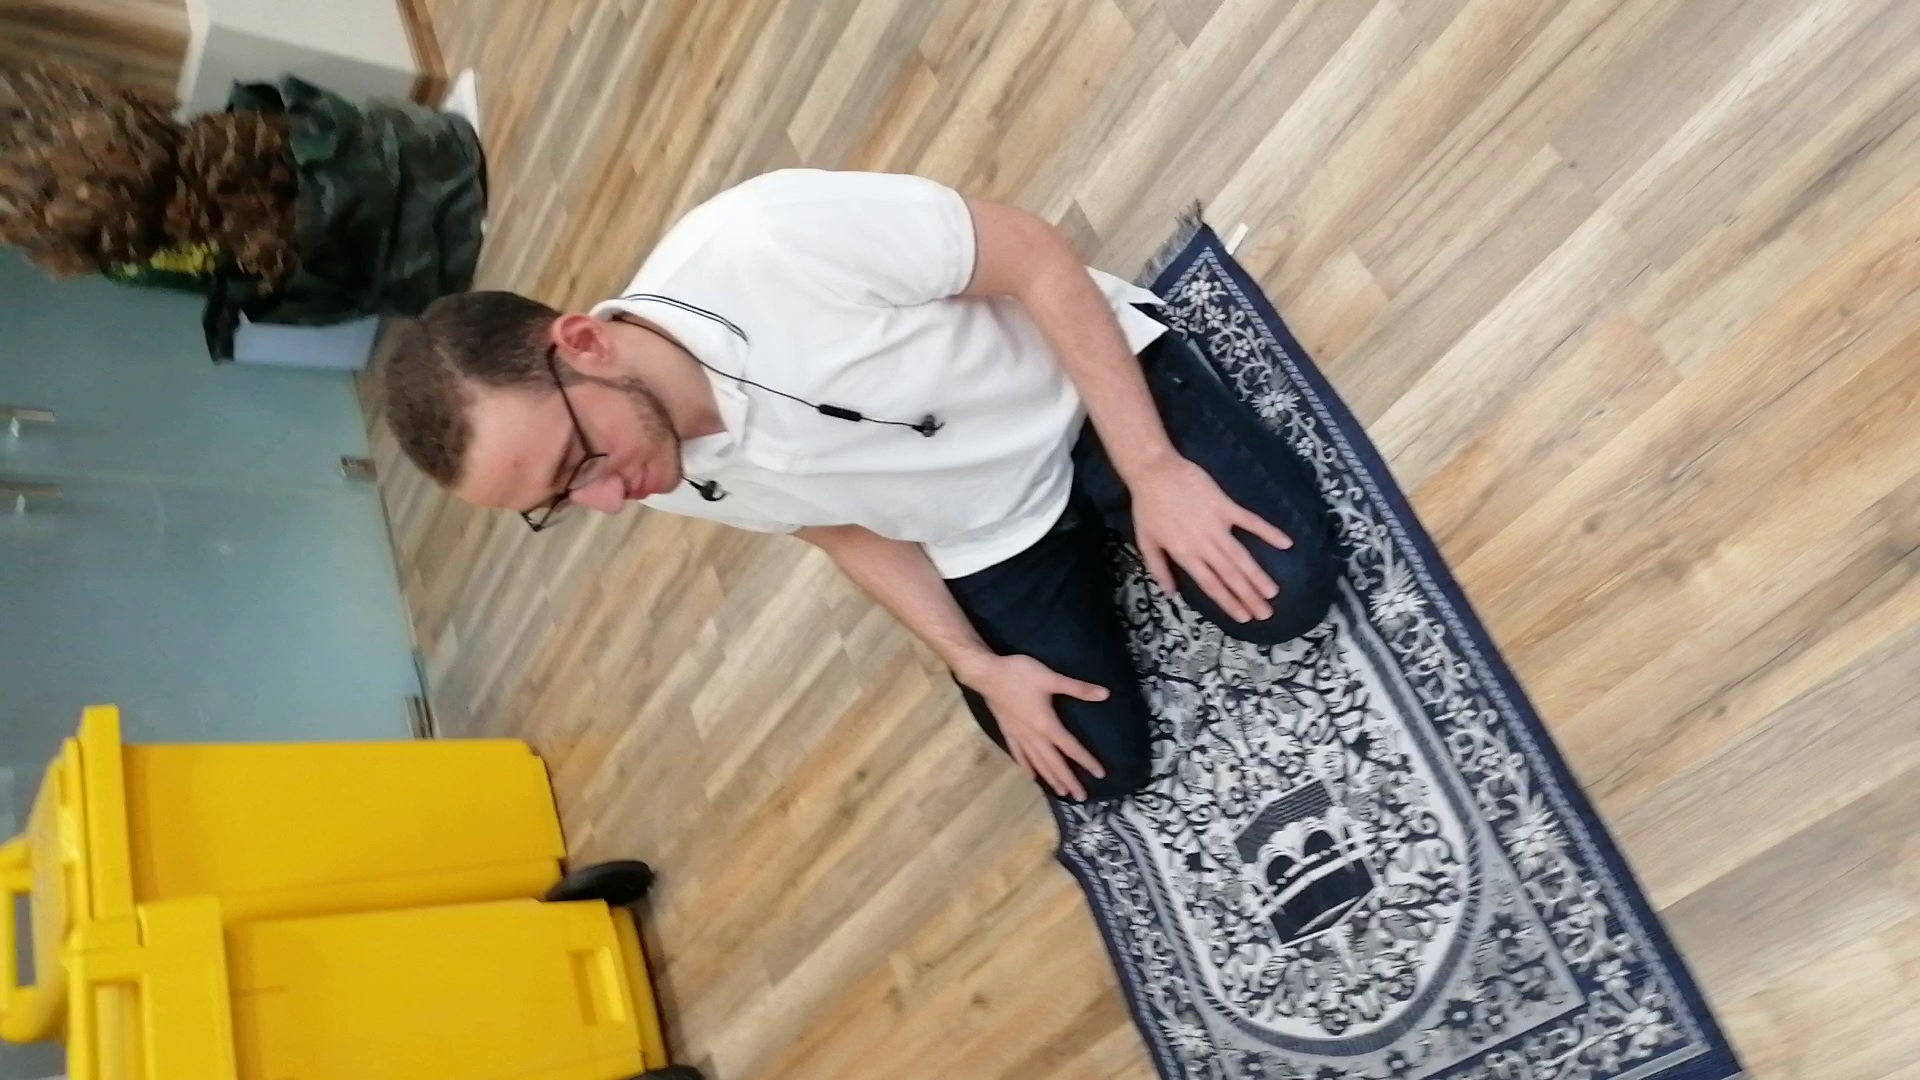sitting: (365, 156, 1356, 812)
